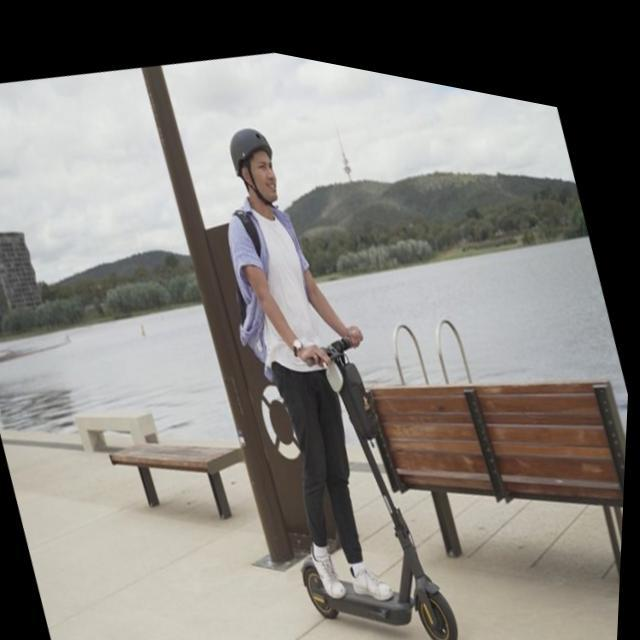Helmet: (228, 121, 286, 208)
